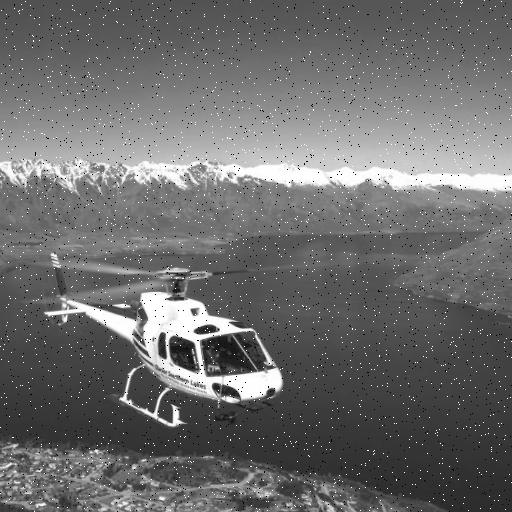helicopter: (40, 252, 330, 433)
